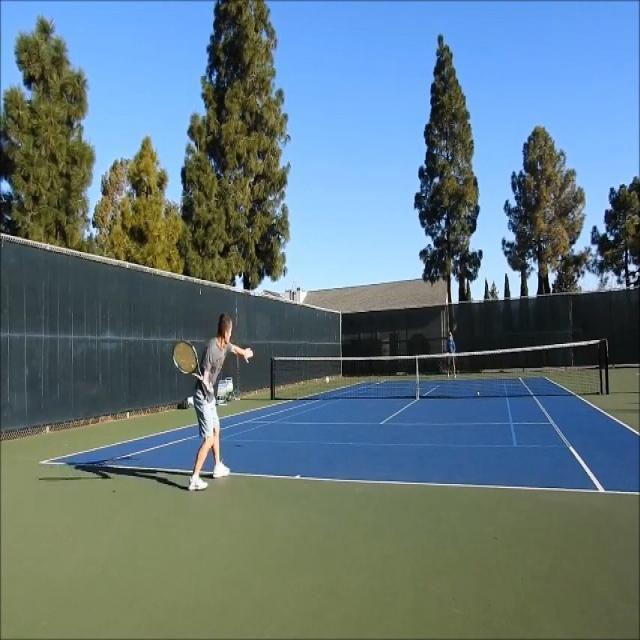court: (38, 378, 640, 494)
net: (269, 341, 612, 402)
player: (173, 314, 254, 492)
